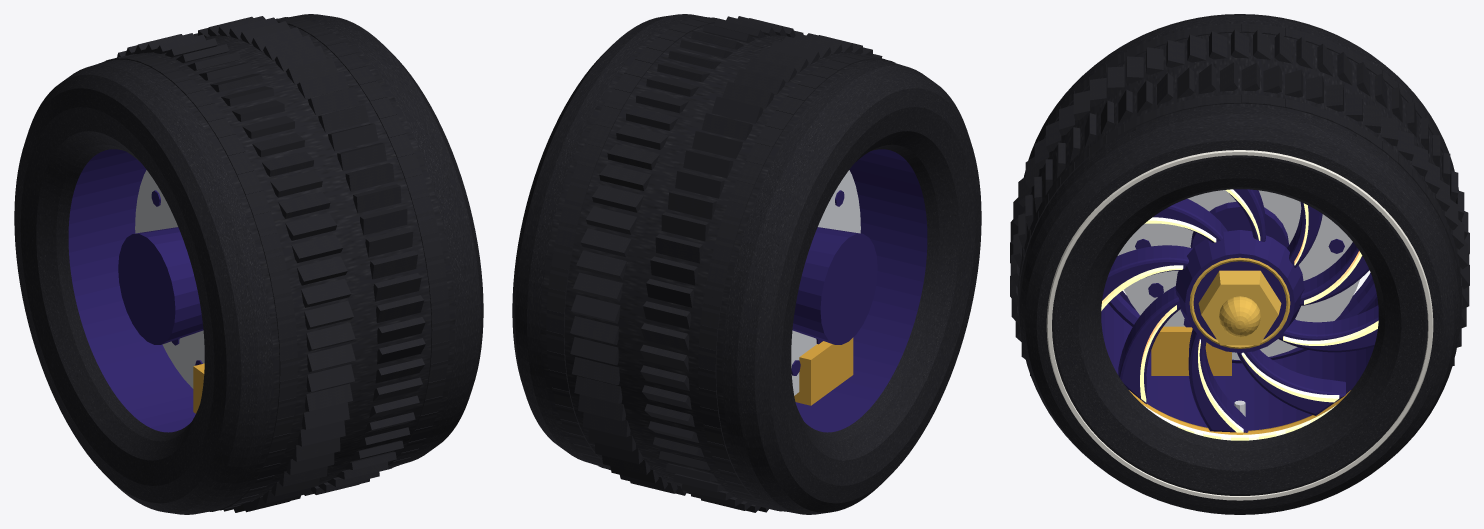
Rendered from tyre-turbine.glb.
3 renders of one model, left to right at view 1: azimuth 30°, elevation 25°; view 2: azimuth 150°, elevation 25°; view 3: azimuth 270°, elevation 25°, orthographic. The views are drawn at different scales.
Parts seen in each view (by area): view 1: Tyre_Rubber, Rim, Valve; view 2: Tyre_Rubber, Rim, Rim_Lip, Valve; view 3: Tyre_Rubber, Rim, Valve, Tyre_Stripe, Hub_Nut, Rim_Lip, LED_Ring, LED_Blade_1, LED_Blade_2, LED_Blade_7.
Boxes of the visible parts, x1,y1,x2,y2 form: Tyre_Rubber: [14, 14, 483, 514]; Rim: [68, 149, 203, 432]; Valve: [135, 170, 204, 388]; Tyre_Rubber: [512, 14, 981, 514]; Rim: [791, 149, 927, 432]; Rim_Lip: [794, 337, 853, 405]; Valve: [791, 170, 860, 395]; Tyre_Rubber: [1010, 14, 1469, 514]; Rim: [1101, 189, 1378, 432]; Valve: [1117, 190, 1359, 416]; Tyre_Stripe: [1046, 150, 1433, 500]; Hub_Nut: [1189, 257, 1290, 348]; Rim_Lip: [1129, 326, 1350, 434]; LED_Ring: [1143, 405, 1336, 440]; LED_Blade_1: [1241, 352, 1339, 402]; LED_Blade_2: [1283, 320, 1378, 345]; LED_Blade_7: [1101, 265, 1183, 310].
Size of the model in its own units: 0.1804 by 0.2849 by 0.2849.
Materials: 16 (1 with a texture image).
